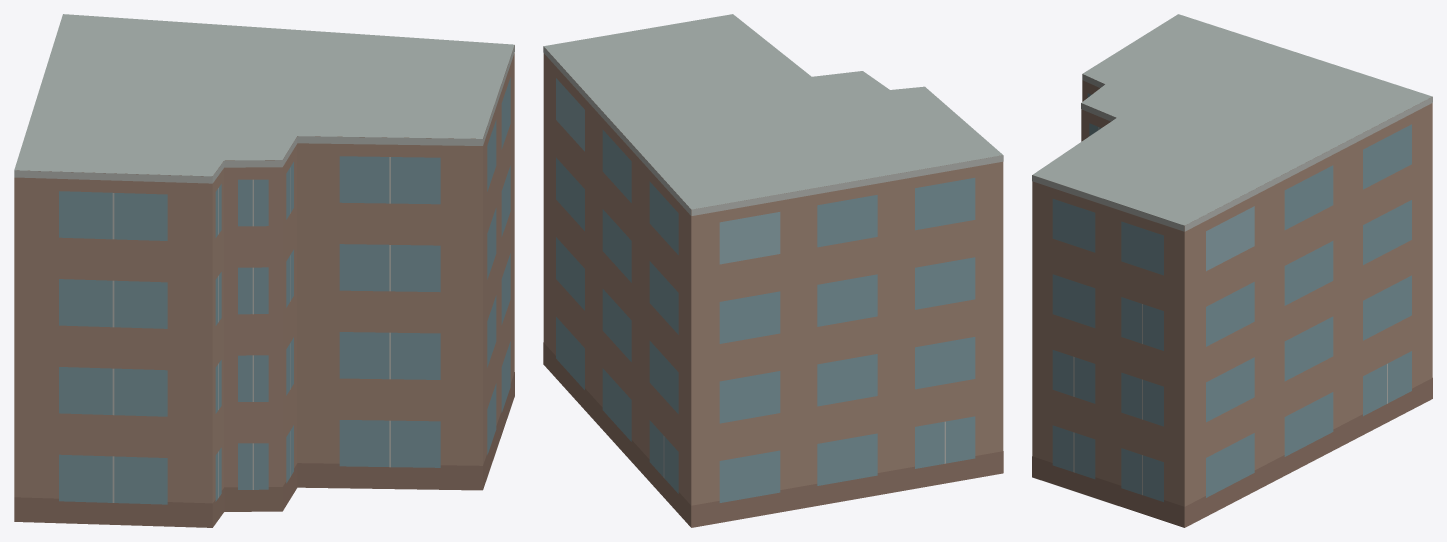
Rendered from survey-upis-32860730.glb.
The picture shows the model from 3 angles, left to right: view 1: azimuth 30°, elevation 25°; view 2: azimuth 150°, elevation 25°; view 3: azimuth 270°, elevation 25°; orthographic projection. The views are drawn at different scales.
Visible parts, largest first — view 1: survey-upis-32860730.tmp; view 2: survey-upis-32860730.tmp; view 3: survey-upis-32860730.tmp.
Boxes of the visible parts, x1,y1,x2,y2 form: survey-upis-32860730.tmp: [14, 14, 514, 527]; survey-upis-32860730.tmp: [543, 14, 1003, 527]; survey-upis-32860730.tmp: [1032, 14, 1432, 527].
Size of the model in its own units: 17.88 by 11.9 by 14.3.
